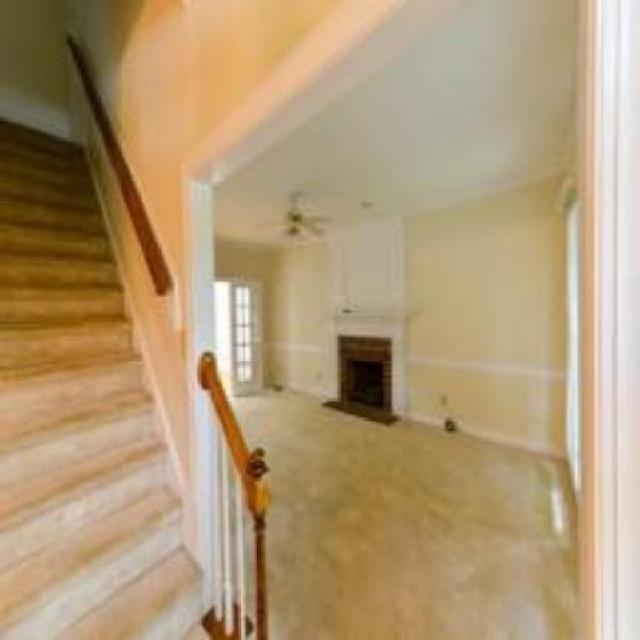stair: (4, 107, 215, 640)
